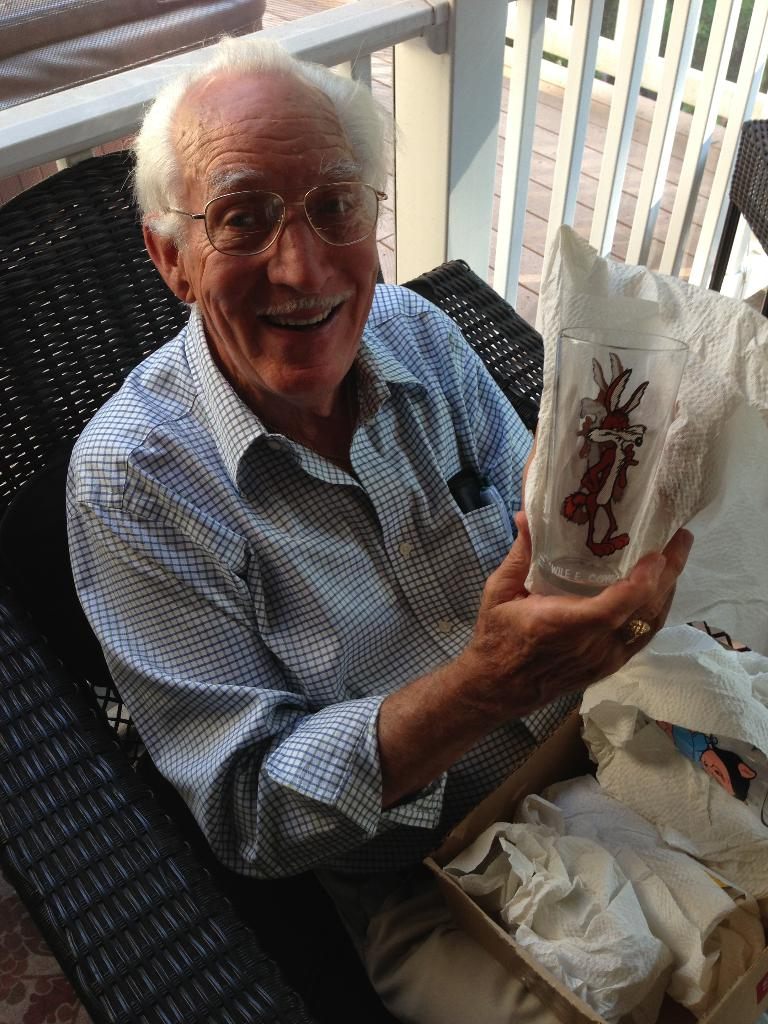Human_hand: (387, 461, 679, 817)
